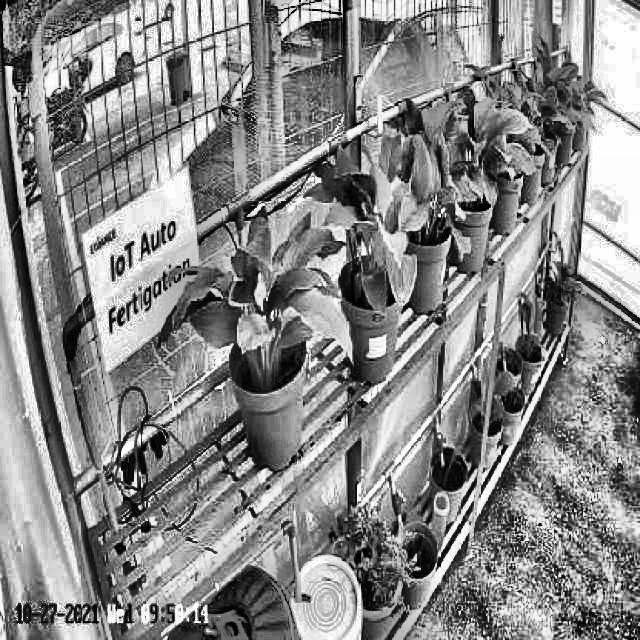plants: (158, 203, 352, 380), (310, 156, 413, 318), (380, 95, 471, 263), (423, 76, 546, 198)
